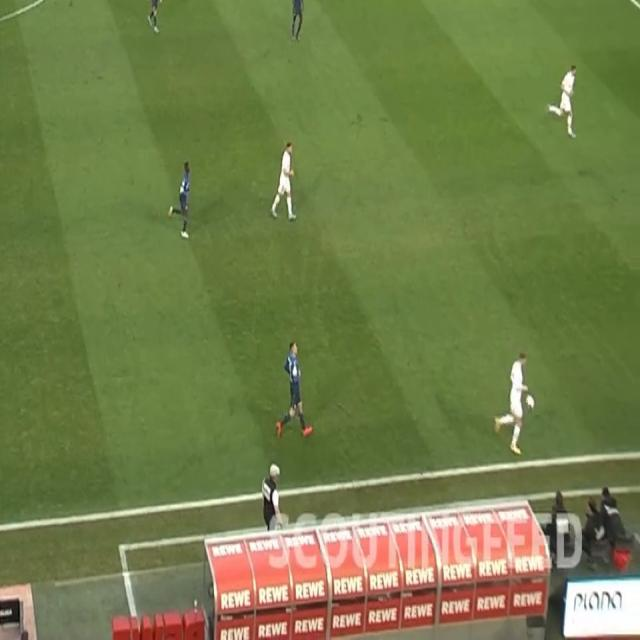ball: (525, 393, 535, 412)
